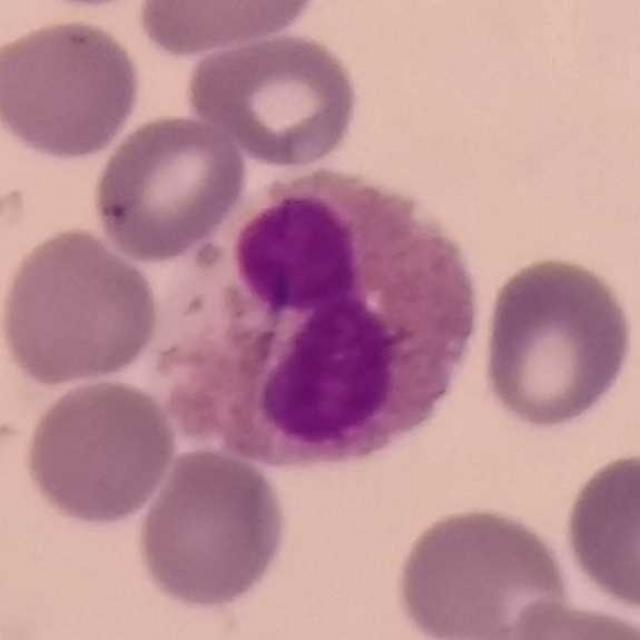Eosinophil: (173, 165, 485, 468)
RBC: (475, 250, 637, 433), (0, 222, 164, 390), (131, 443, 292, 613), (182, 28, 363, 169), (391, 501, 574, 640), (88, 110, 251, 263), (20, 375, 180, 530), (0, 15, 145, 164), (560, 446, 640, 618), (131, 0, 324, 56), (496, 594, 640, 640)
